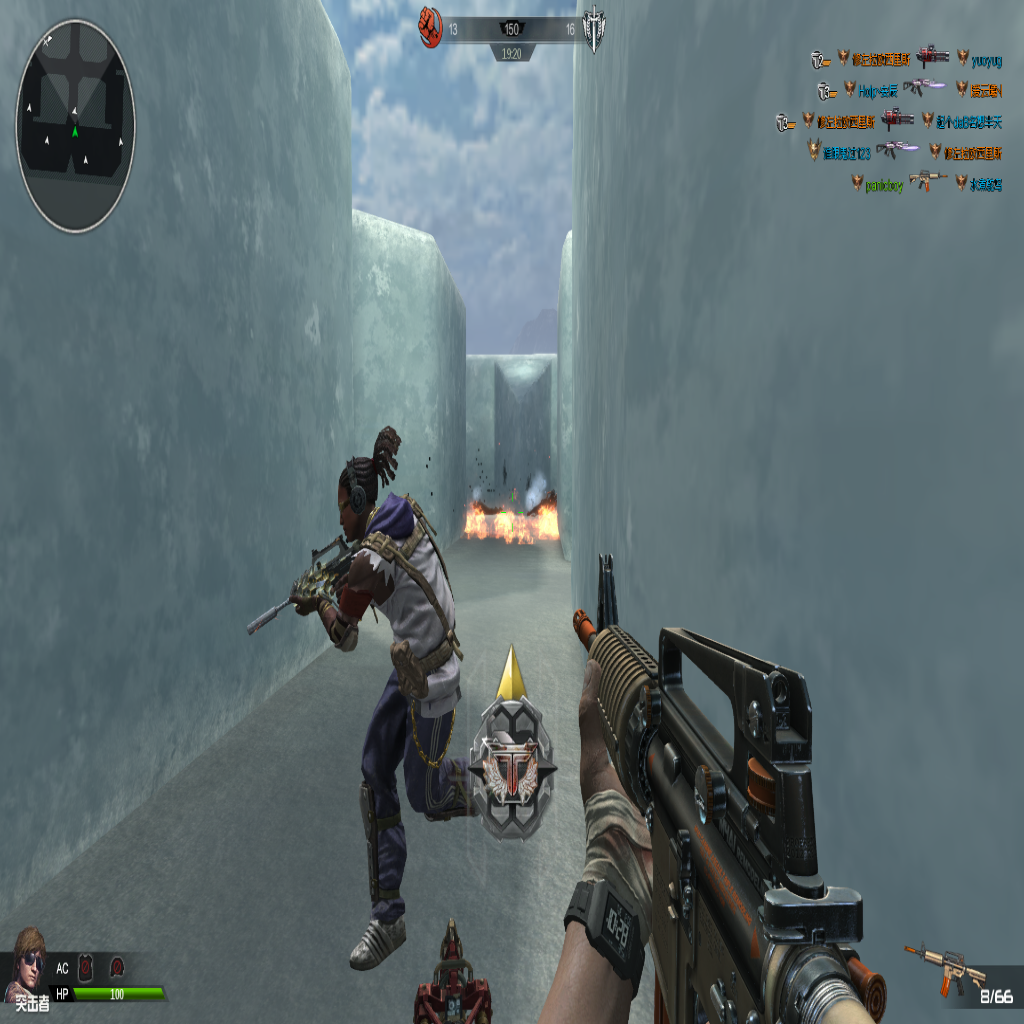tt: (289, 415, 460, 976)
